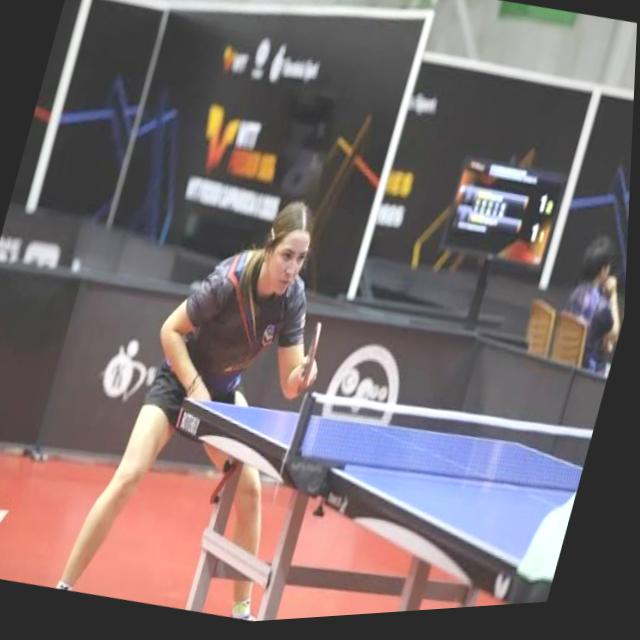TT Net: (286, 385, 592, 494)
TT Racket: (297, 314, 326, 390)
TT Table: (182, 400, 579, 586)
